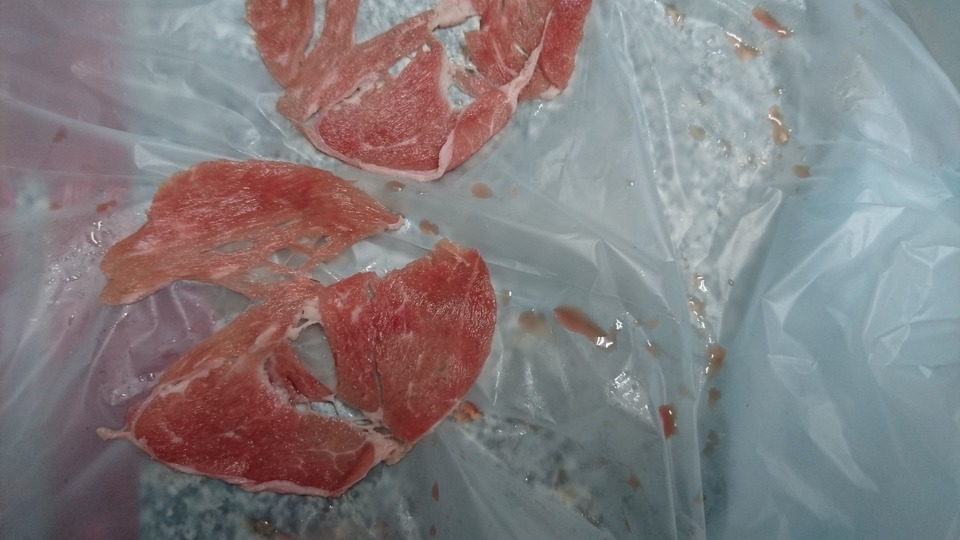restructured meat: (129, 157, 480, 500), (242, 6, 615, 174)
